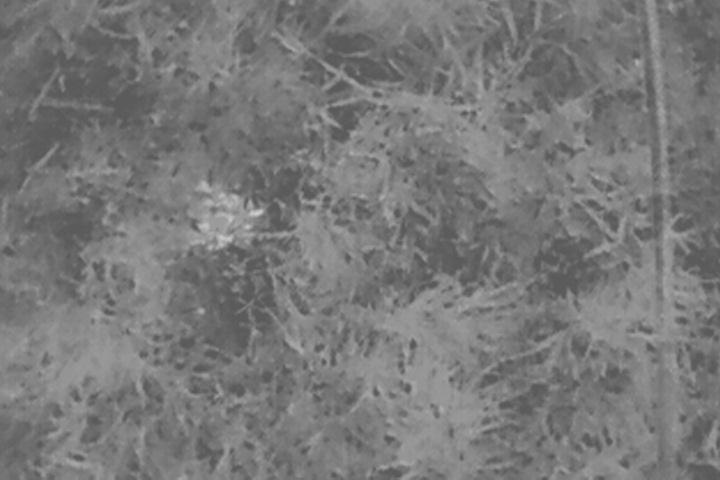landmine: (190, 182, 258, 253)
